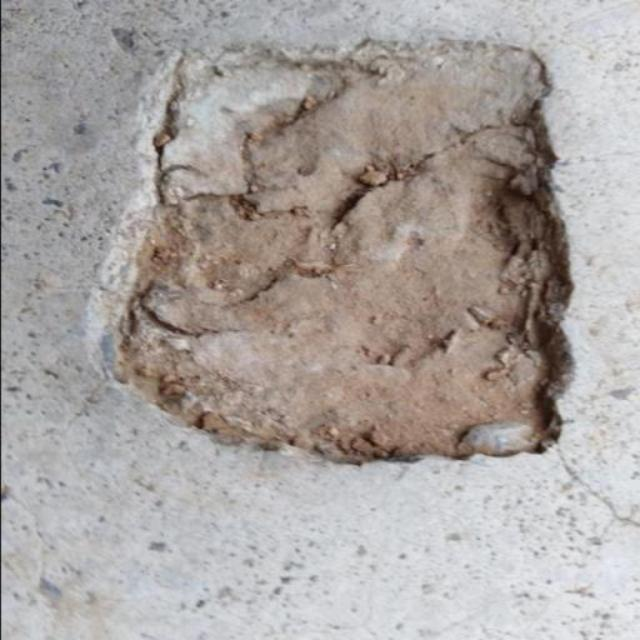D10: (114, 34, 575, 469)
